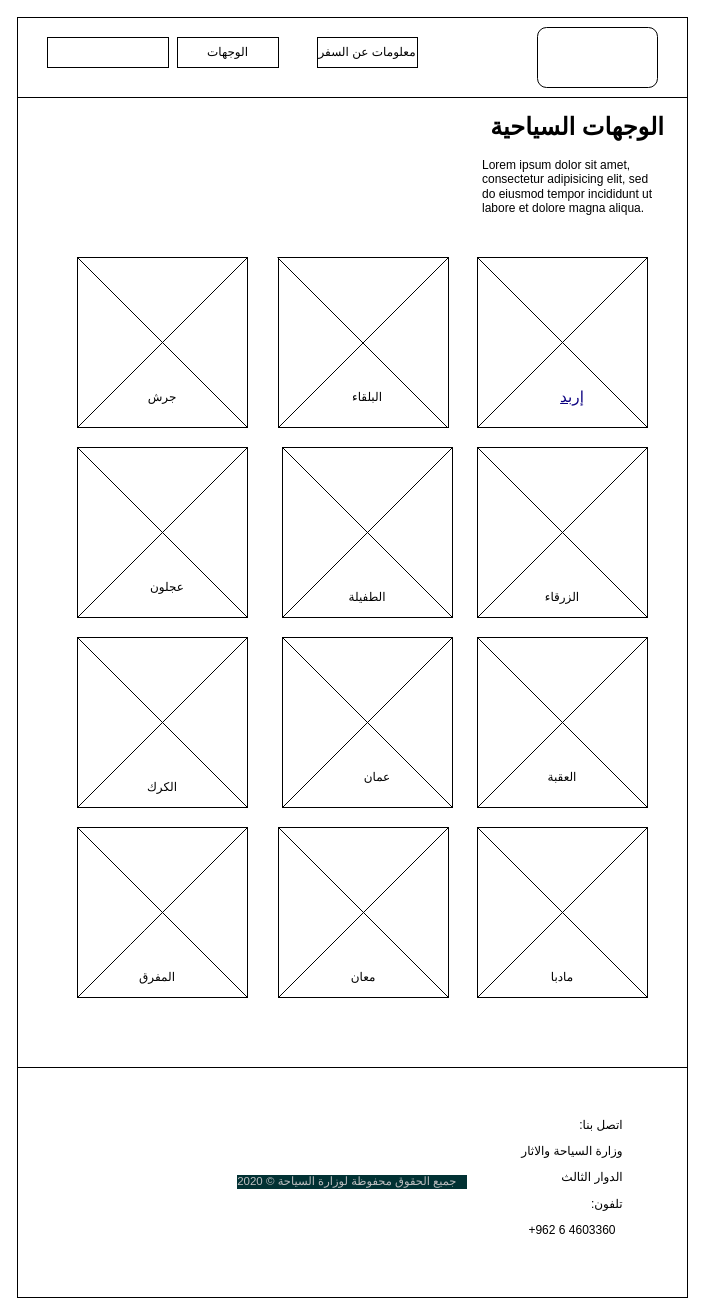
This 705x1315 diagram has some shape labels left out. Each missing label, with the centre of its shape:
Logo وزارة السياحة والاثار: the point at 597,57
الضفحة الرئيسية: the point at 107,52
